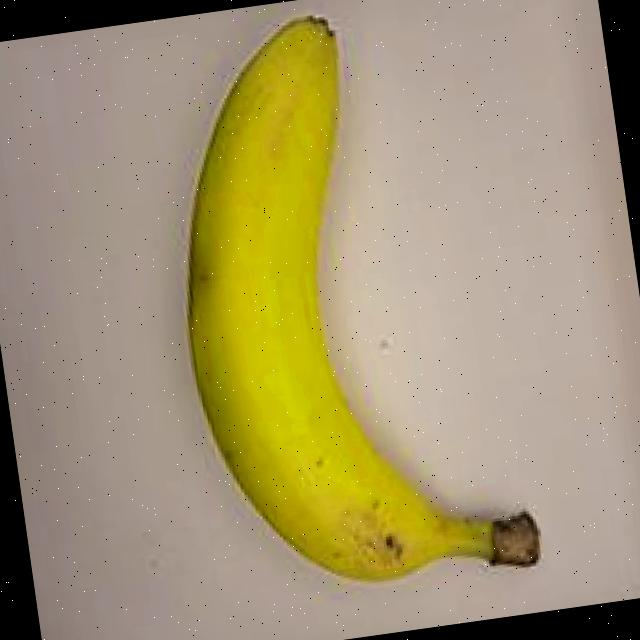Ripe: (79, 0, 590, 636)
